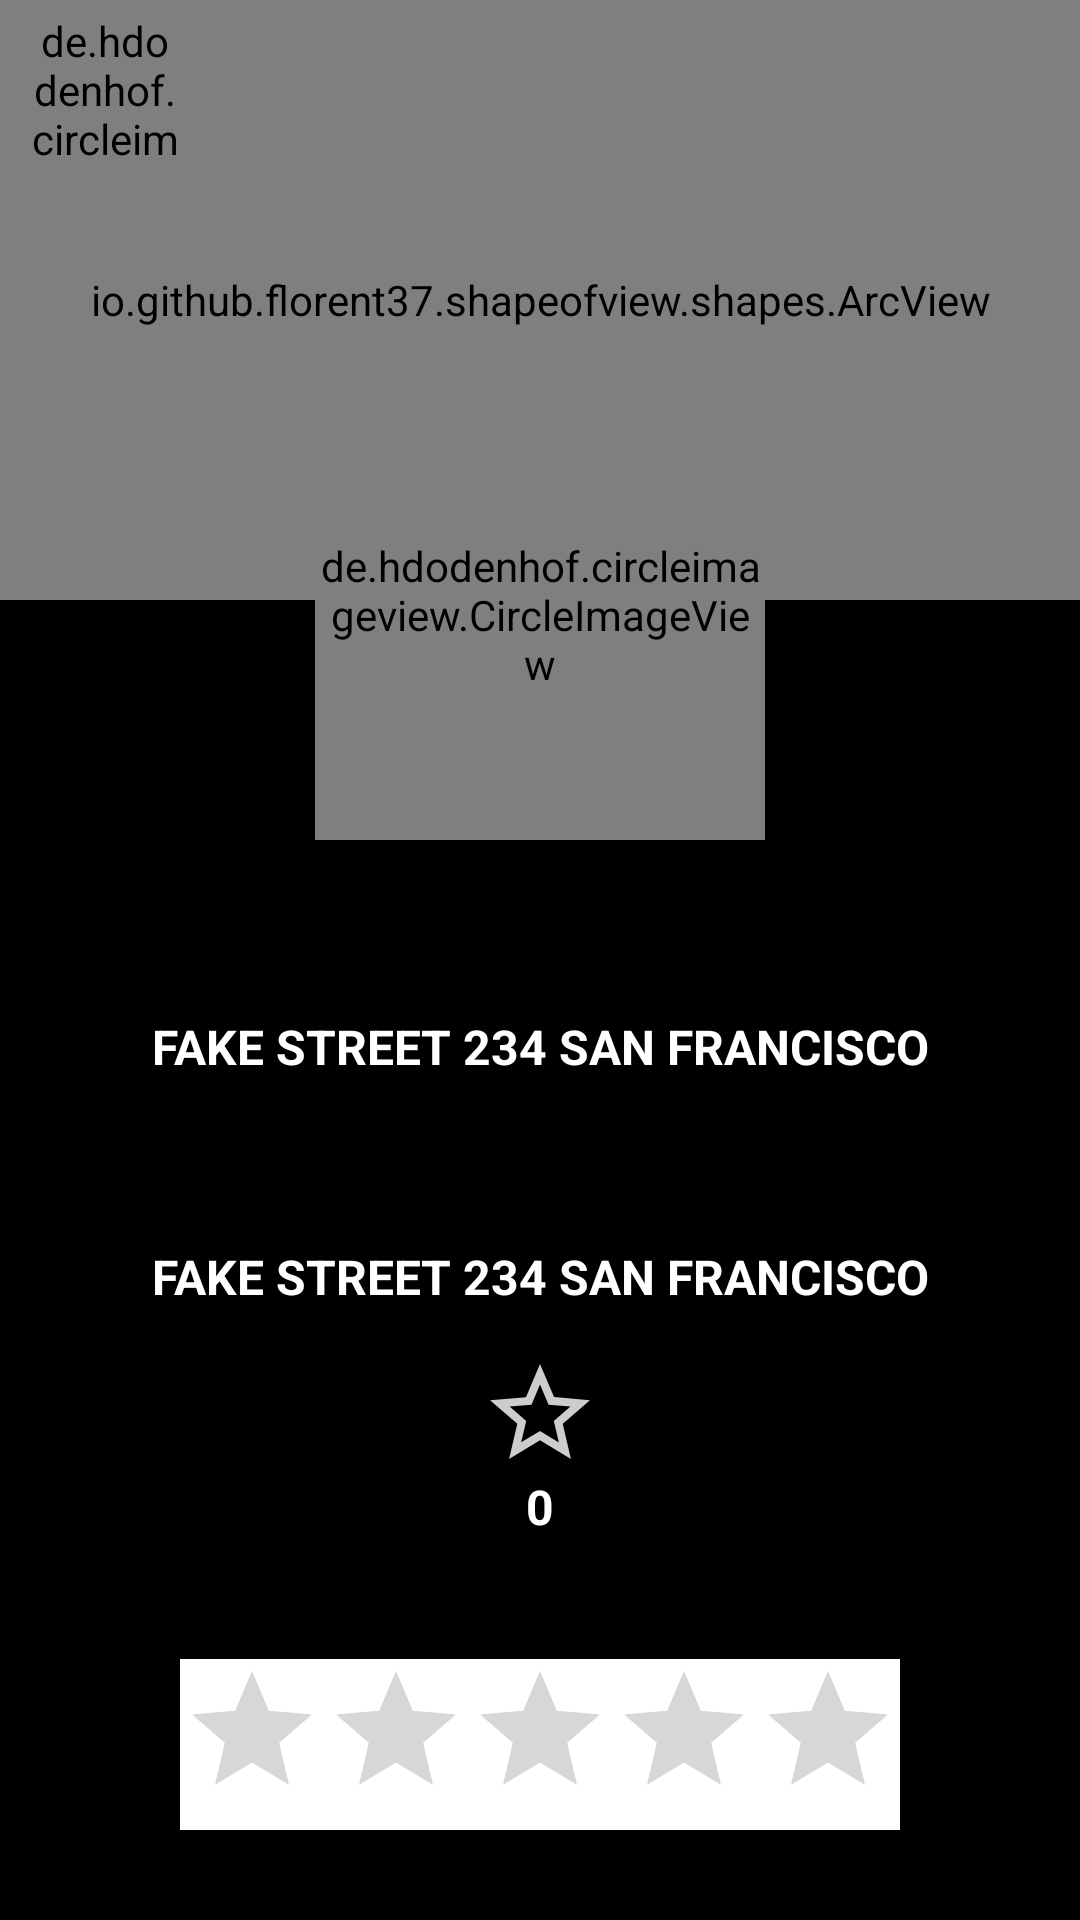

Named icons in this screenshot (1080 × 1920) and their centers, (x,y):
star: (540,1411)
